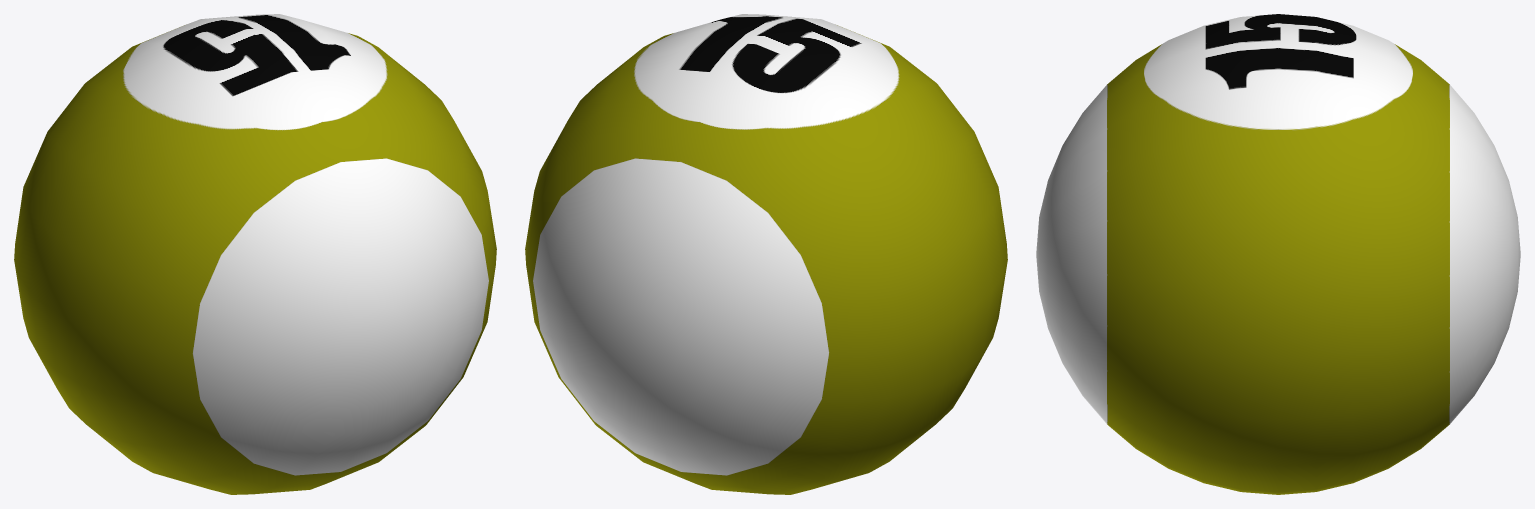
The model's file is ball15.fbx.
3 renders of one model, left to right at view 1: azimuth 30°, elevation 25°; view 2: azimuth 150°, elevation 25°; view 3: azimuth 270°, elevation 25°, orthographic.
Parts seen in each view (by area): view 1: pSphere1; view 2: pSphere1; view 3: pSphere1.
Boxes of the visible parts, left/top/right/bottom form: pSphere1: left=14, top=14, right=496, bottom=494; pSphere1: left=525, top=14, right=1007, bottom=494; pSphere1: left=1036, top=14, right=1520, bottom=494.
Size of the model in its own units: 2 by 2 by 2.
